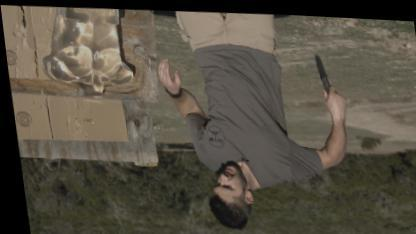knife: (308, 45, 347, 103)
